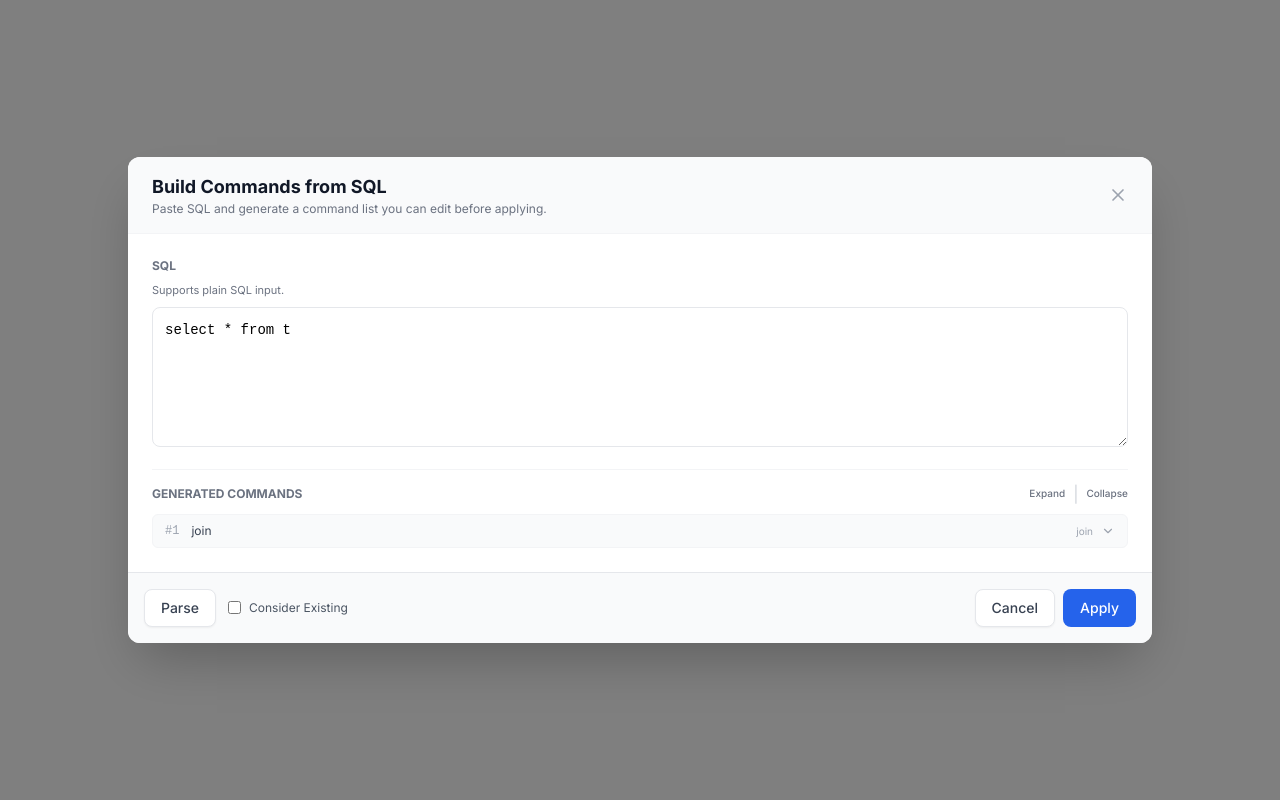
Test: SqlBuilderModal editable command matrix › join editable case: table-INNER-on-1
What coordinates should you click on to do the following:
click the button "#1 join join"
I would click on:
 (169, 531)
Its box is [153,515,1127,547].
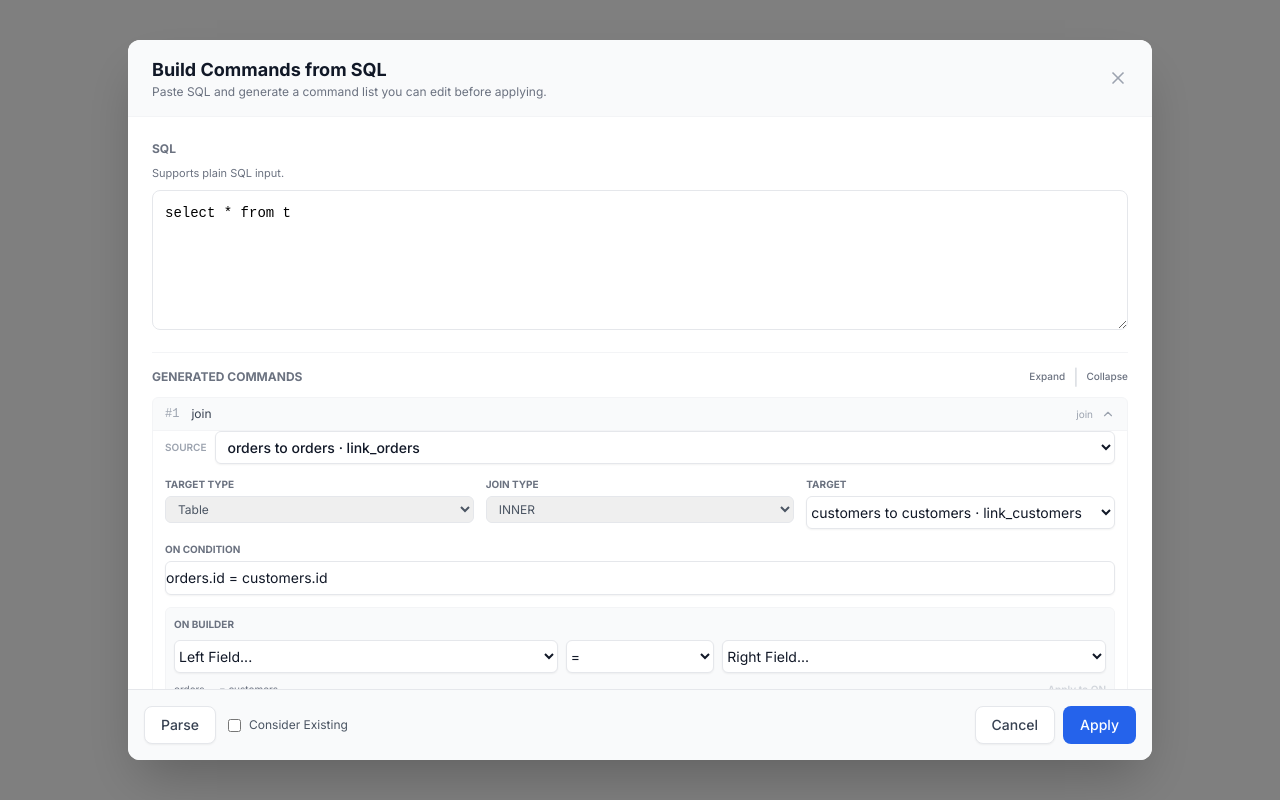
Now the dropdown below "Target Type" shows "Table", box [165,496,474,522]
Now the dropdown below "Join Type" shows "INNER", box [486,496,794,522]
Now the field with placeholder "left.id = right.user_id" holds "orders.id = customers.id", box [165,560,1115,594]
